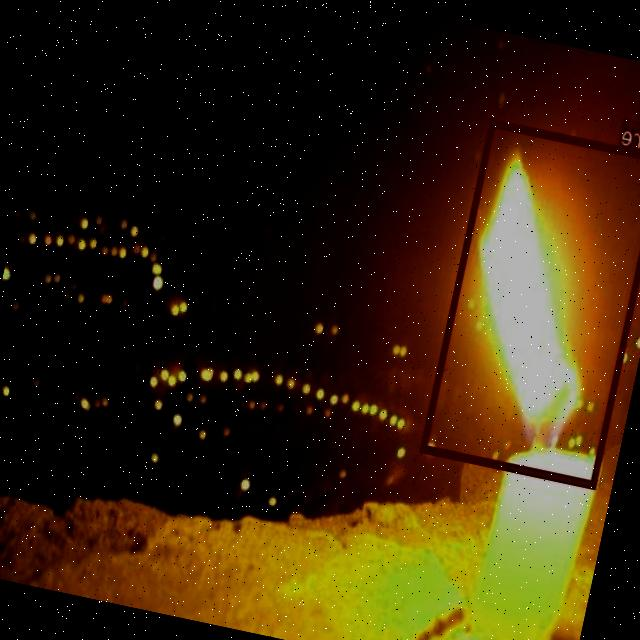fire: (420, 116, 640, 487)
